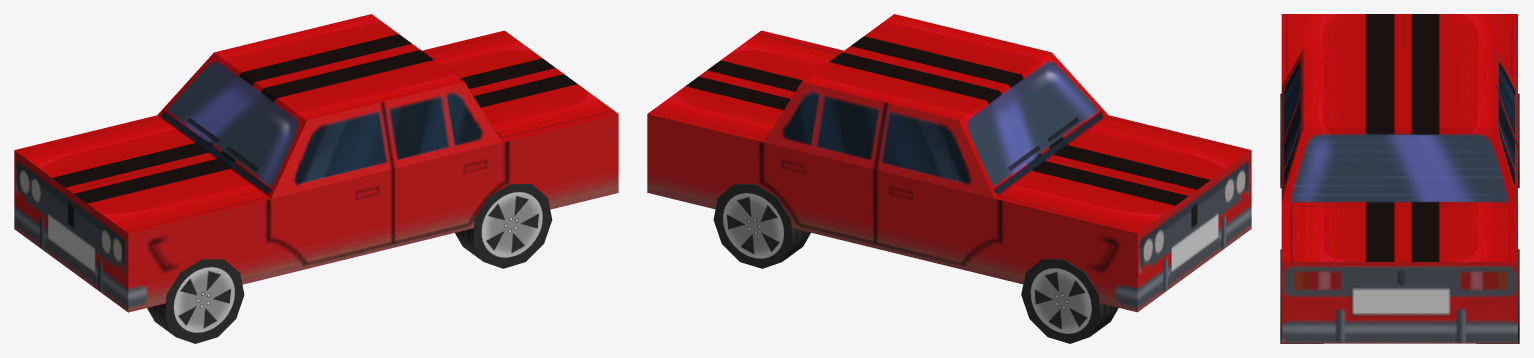
Rendered from avto_5.FBX.
The picture shows the model from 3 angles, left to right: view 1: azimuth 30°, elevation 25°; view 2: azimuth 150°, elevation 25°; view 3: azimuth 270°, elevation 25°; orthographic projection. The views are drawn at different scales.
Visible parts, largest first — view 1: car005, Cylinder032, Cylinder030; view 2: car005, Cylinder031, Cylinder033; view 3: car005, Cylinder030, Cylinder031, Cylinder032, Cylinder033.
Boxes of the visible parts, left/top/right/bottom form: car005: left=14, top=14, right=618, bottom=312; Cylinder032: left=147, top=259, right=244, bottom=343; Cylinder030: left=455, top=184, right=552, bottom=268; car005: left=647, top=14, right=1251, bottom=312; Cylinder031: left=713, top=184, right=810, bottom=268; Cylinder033: left=1021, top=259, right=1118, bottom=343; car005: left=1281, top=14, right=1517, bottom=343; Cylinder030: left=1280, top=249, right=1323, bottom=343; Cylinder031: left=1476, top=249, right=1519, bottom=343; Cylinder032: left=1280, top=93, right=1281, bottom=188; Cylinder033: left=1518, top=93, right=1519, bottom=188.
Size of the model in its own units: 3.1 by 1.12 by 1.26.
Materials: 2 (2 with a texture image).
